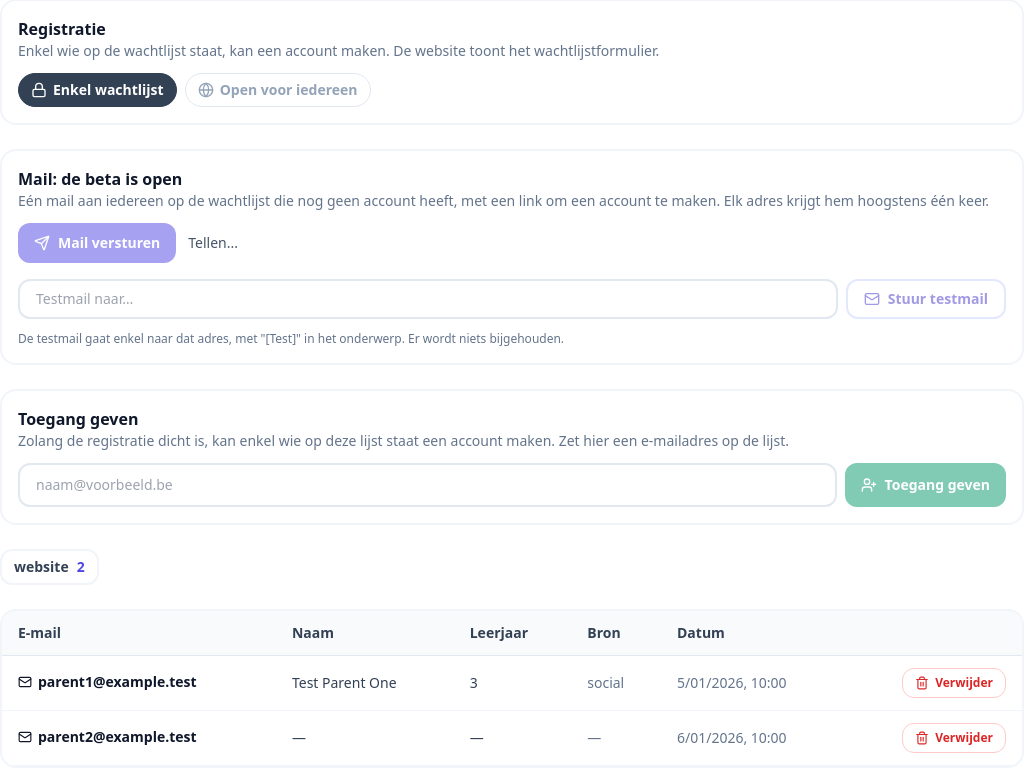
AdminBetaSignups › Verwijderen › deletes the chosen row after confirming
The width and height of the screenshot is (1024, 768).
(page scrolled)
Click the button "Verwijder" in the row of "parent2@example.test": [954, 738] box top-left (902, 723), bottom-right (1006, 753)
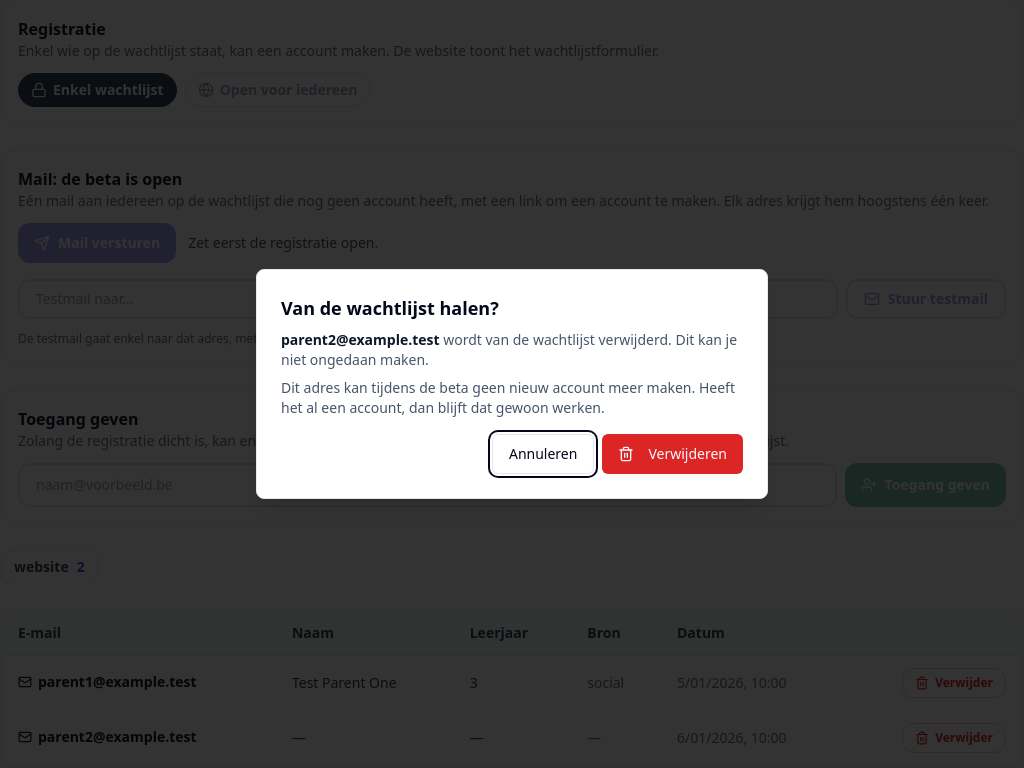
Click the button "Verwijderen": [673, 454] box top-left (602, 434), bottom-right (743, 474)
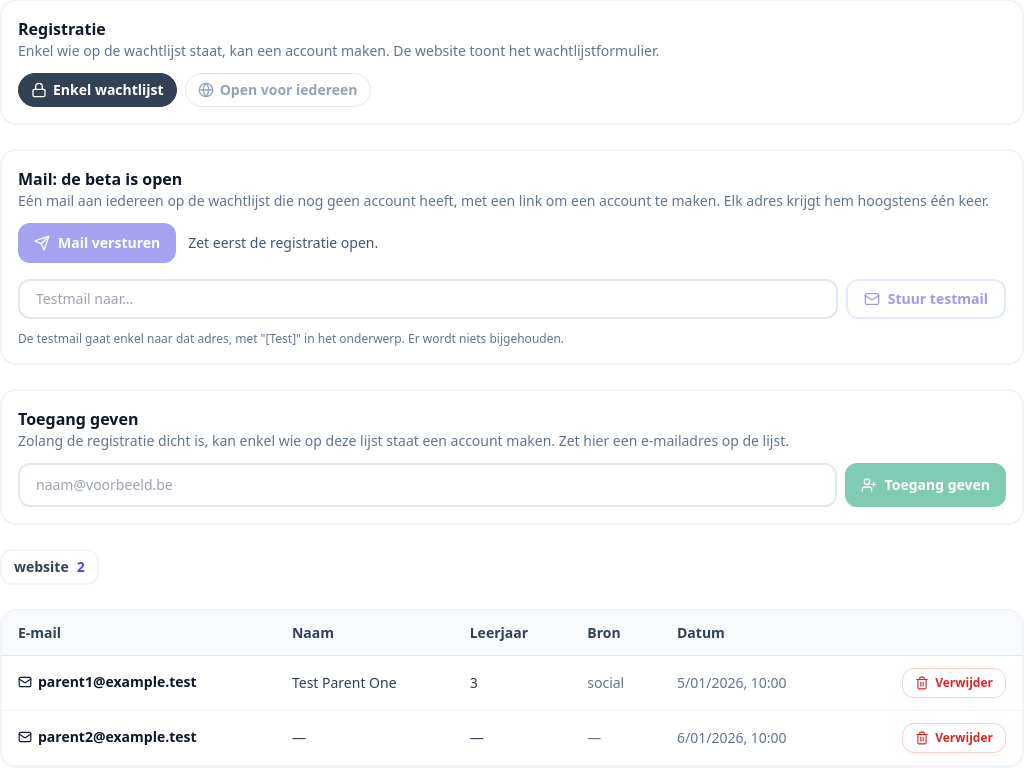
Check: the dialog is gone
